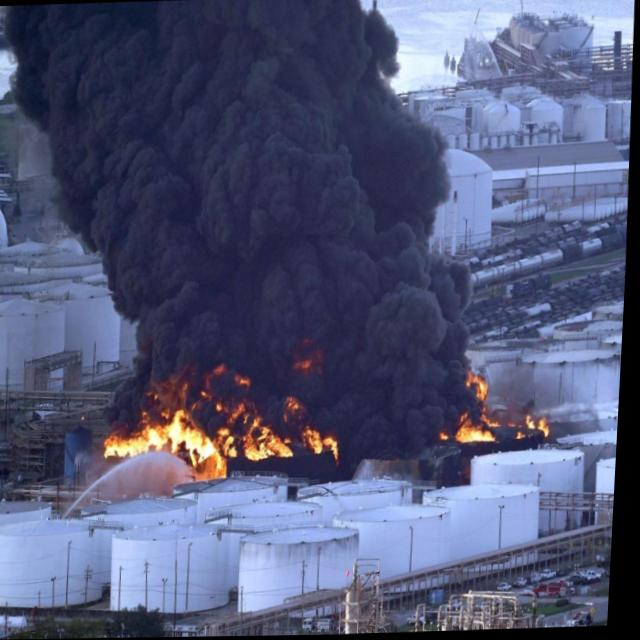fire: (101, 396, 355, 482), (455, 411, 508, 447), (515, 415, 561, 443), (465, 369, 497, 409), (296, 356, 322, 371), (235, 375, 256, 389), (441, 428, 456, 445), (213, 360, 231, 374), (202, 383, 215, 400)
